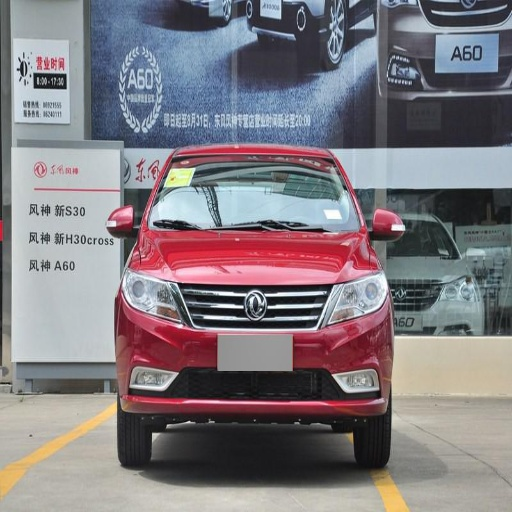front_bumper: (120, 283, 387, 428), (385, 9, 509, 93)
front_right_light: (122, 271, 187, 323)
hood: (130, 227, 376, 284)
